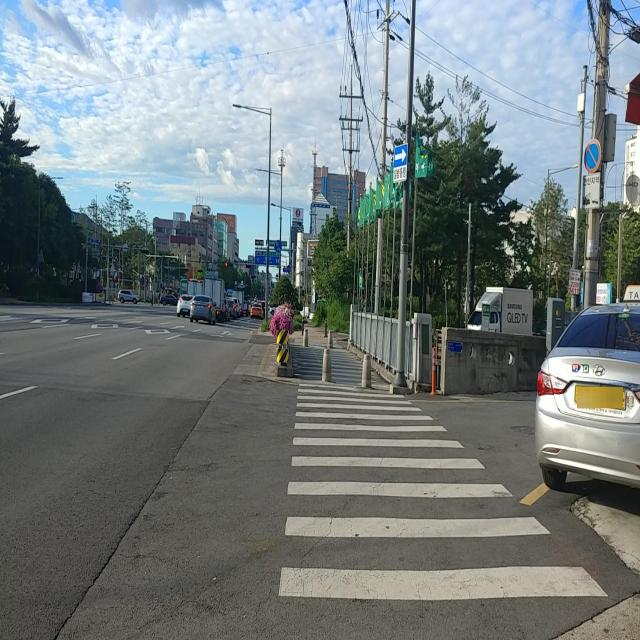횡단보도: (276, 337, 610, 603)
